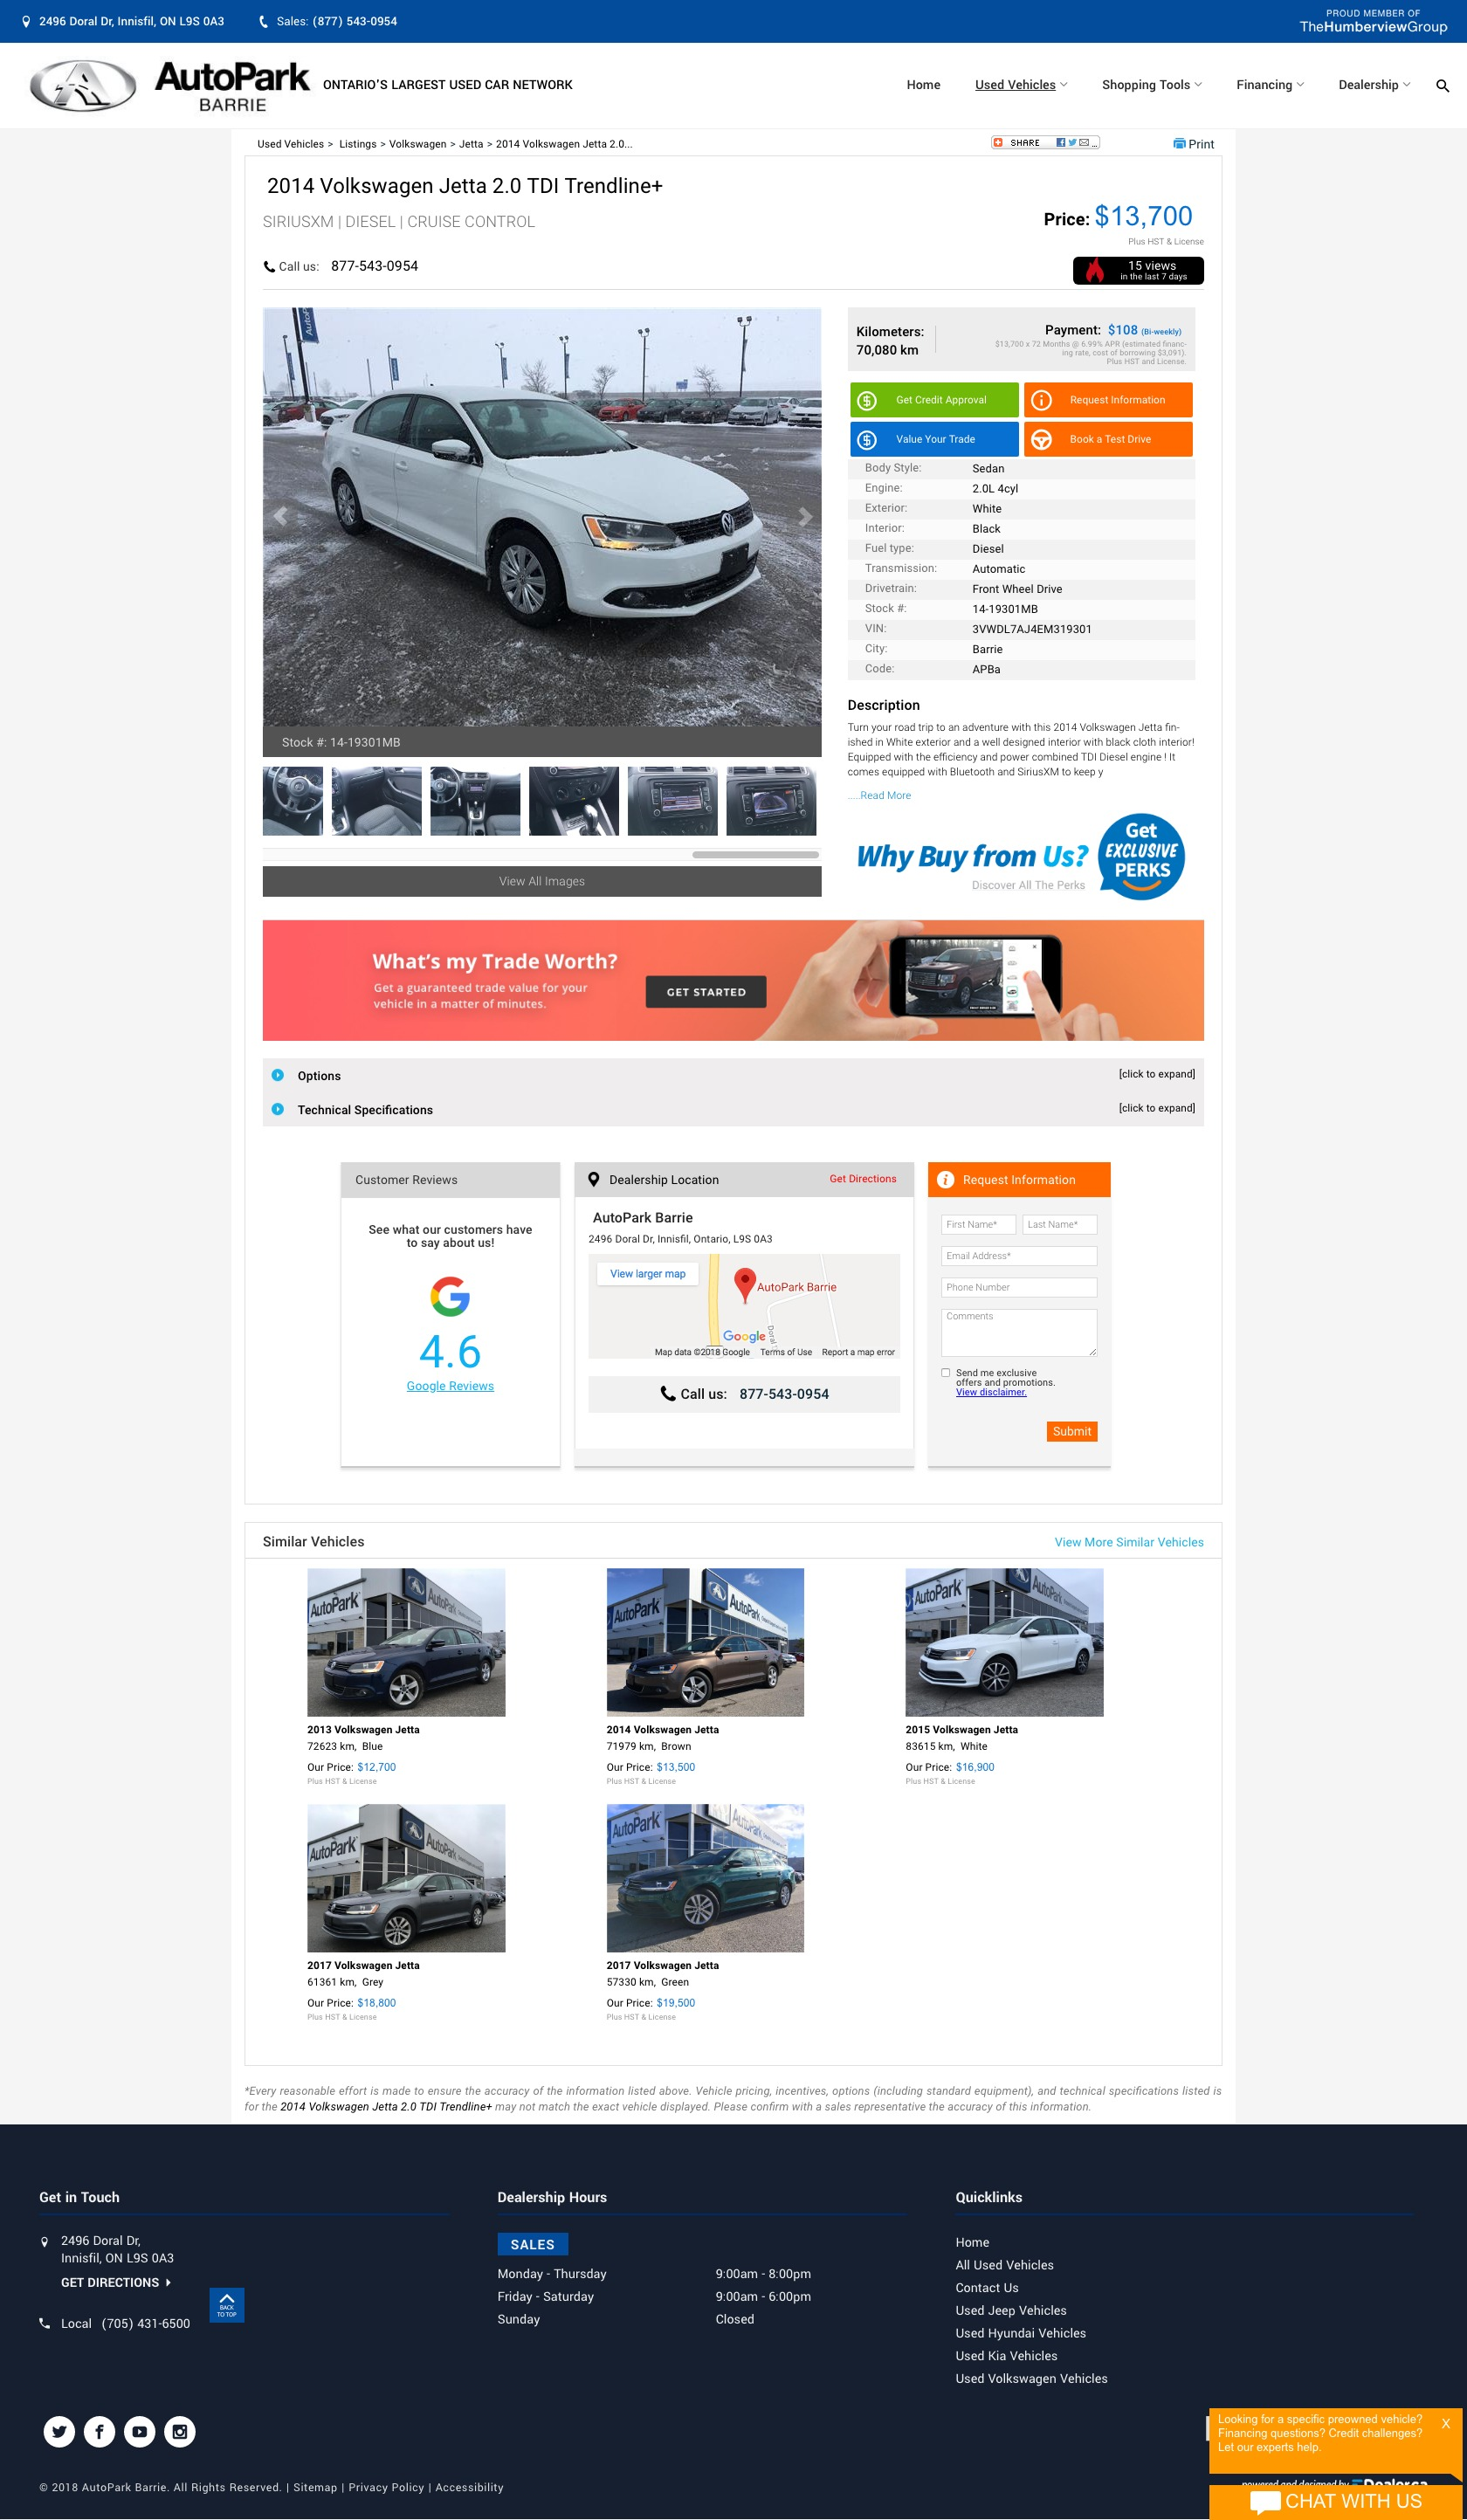car: (786, 501, 824, 538)
